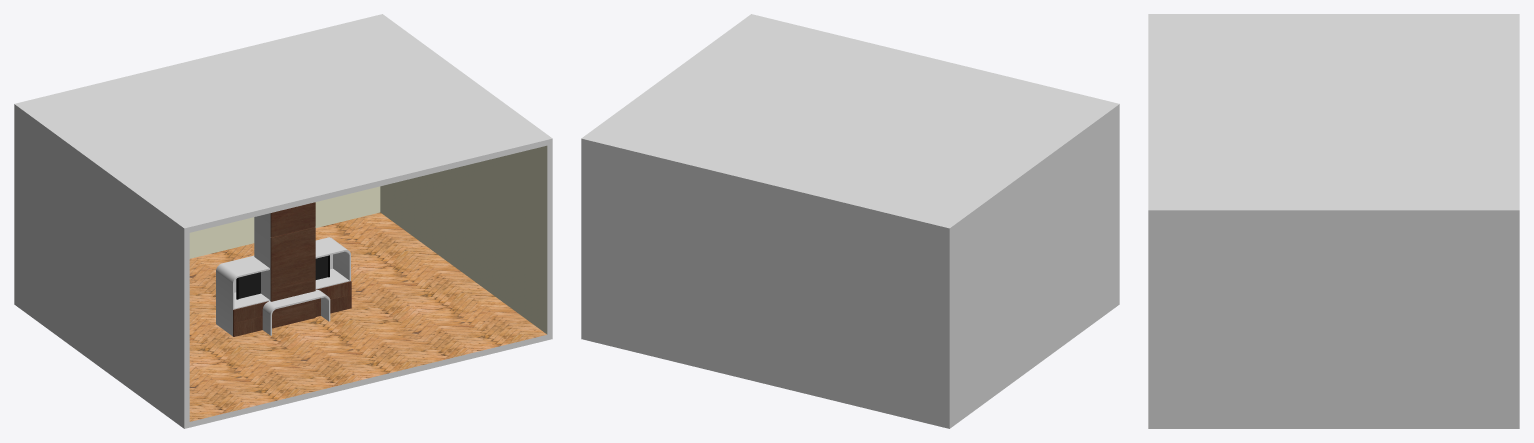
File: furniture_configurator.glb
The picture shows the model from 3 angles, left to right: view 1: azimuth 30°, elevation 25°; view 2: azimuth 150°, elevation 25°; view 3: azimuth 270°, elevation 25°; orthographic projection. The views are drawn at different scales.
Parts seen in each view (by area): view 1: habitacion, sku1b_frentes, sku2a_estructura, sku2b_frentes, sku1a_estructura, sku1c_frentes, sku3a_estructura, tv, sku2a_baldas; view 2: habitacion; view 3: habitacion.
Boxes of the visible parts, left/top/right/bottom form: habitacion: left=14, top=14, right=552, bottom=428; sku1b_frentes: left=270, top=202, right=315, bottom=321; sku2a_estructura: left=216, top=237, right=350, bottom=336; sku2b_frentes: left=233, top=281, right=351, bottom=336; sku1a_estructura: left=254, top=213, right=270, bottom=300; sku1c_frentes: left=270, top=258, right=315, bottom=328; sku3a_estructura: left=262, top=290, right=330, bottom=335; tv: left=236, top=255, right=329, bottom=299; sku2a_baldas: left=234, top=268, right=349, bottom=308; habitacion: left=581, top=14, right=1119, bottom=428; habitacion: left=1148, top=14, right=1519, bottom=428.
Size of the model in its own units: 5 by 3.02 by 4.
Materials: 10 (2 with a texture image).
